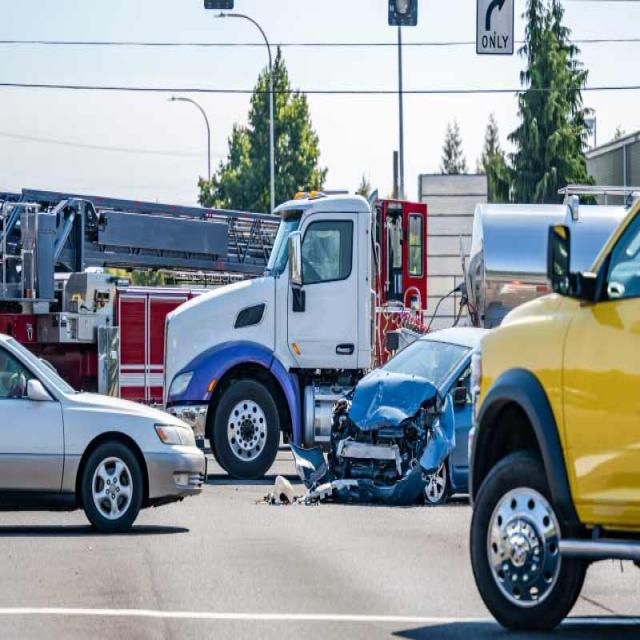Accident: (305, 324, 493, 509)
